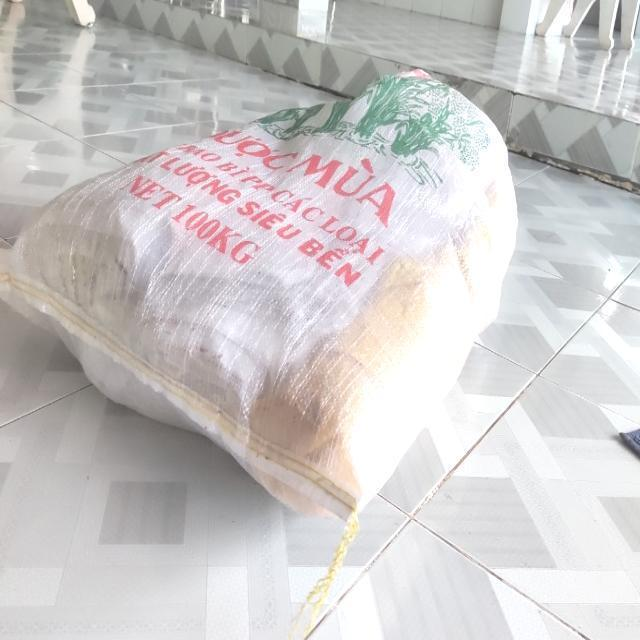gunny_bag: (0, 70, 518, 519)
